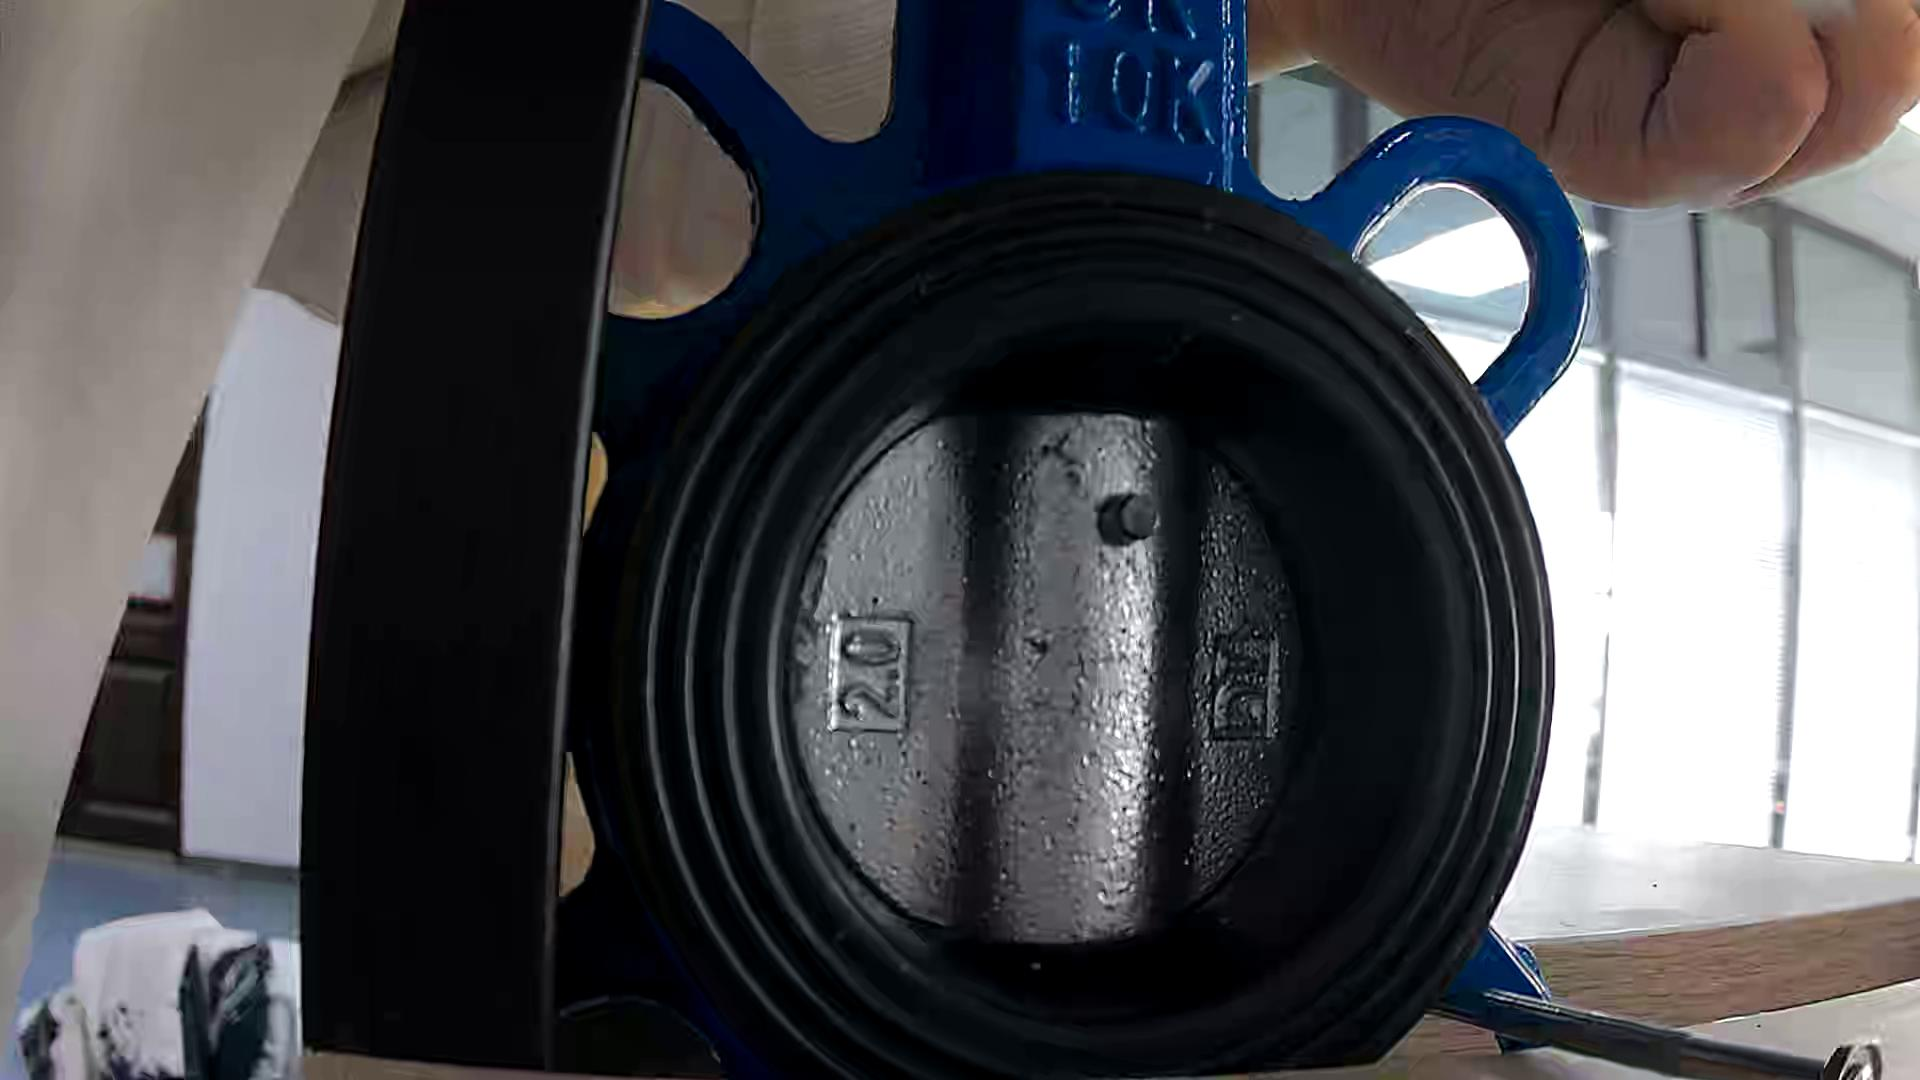valve: (791, 406, 1294, 949)
